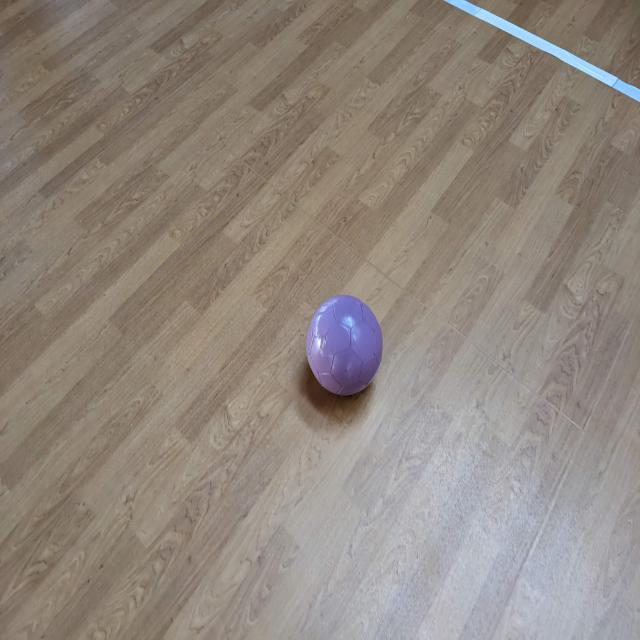purple_ball: (305, 296, 384, 396)
